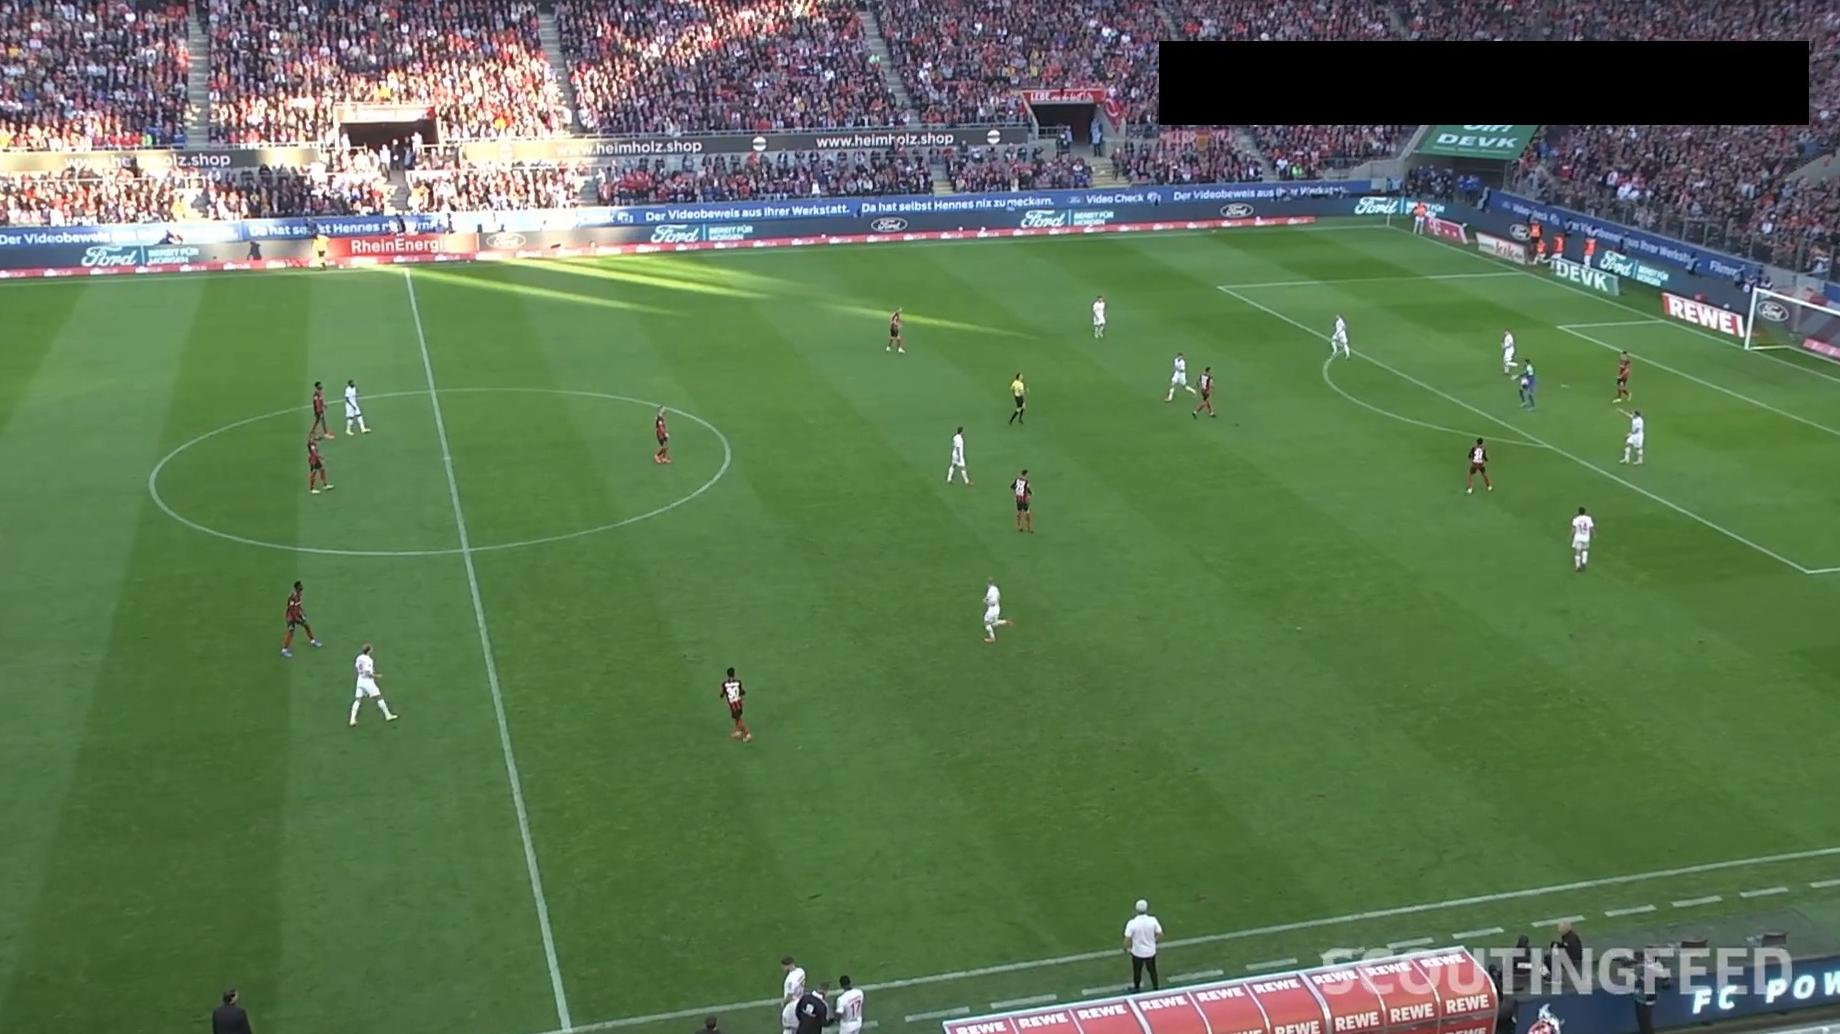ball: (1522, 378, 1529, 386)
